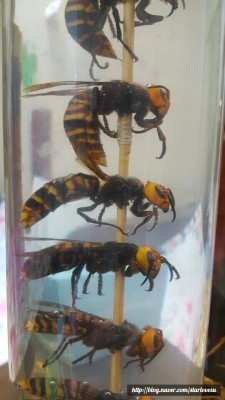asian_giant_hornet: (22, 300, 165, 371), (20, 172, 179, 233), (62, 82, 173, 169), (63, 1, 182, 76), (19, 239, 177, 291), (14, 374, 156, 400)
